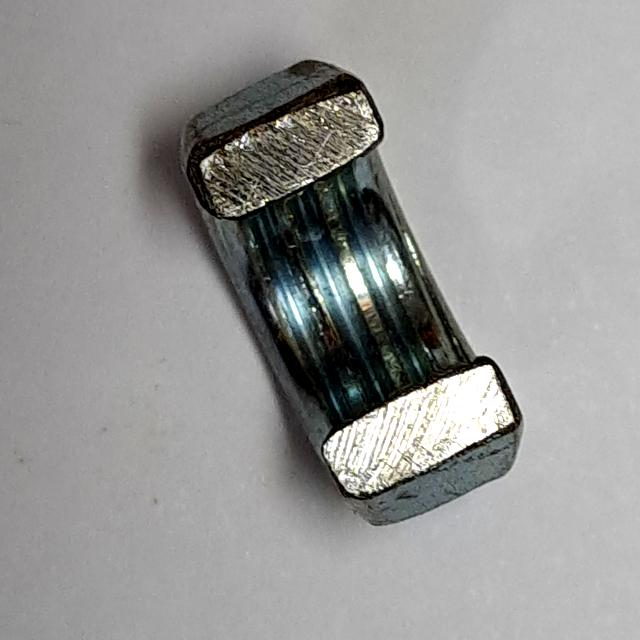Side-Fracture: (164, 49, 542, 548)
